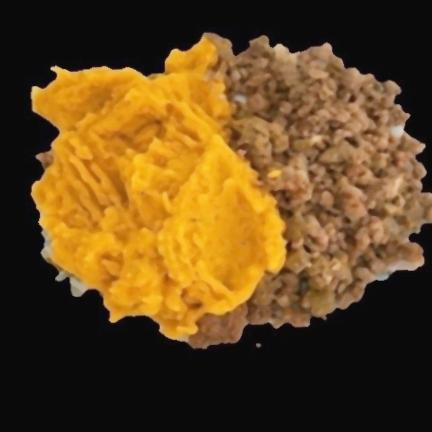meat: (190, 37, 431, 346)
